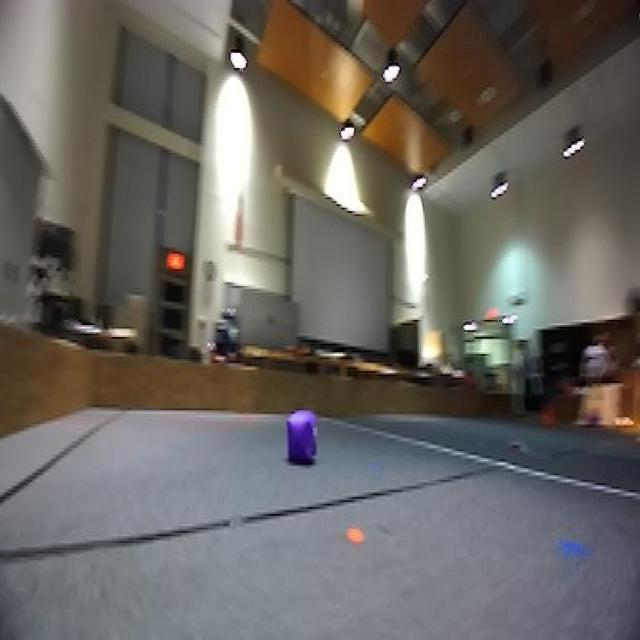frc_cube: (285, 408, 321, 470)
